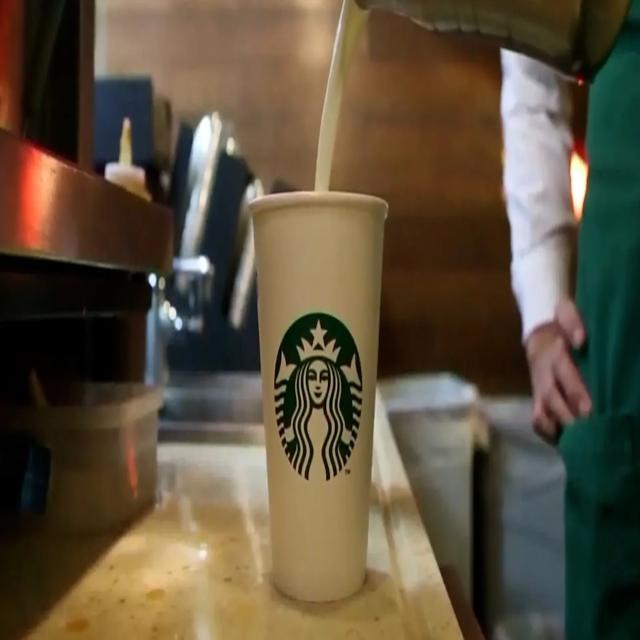starbucks: (272, 306, 366, 485)
